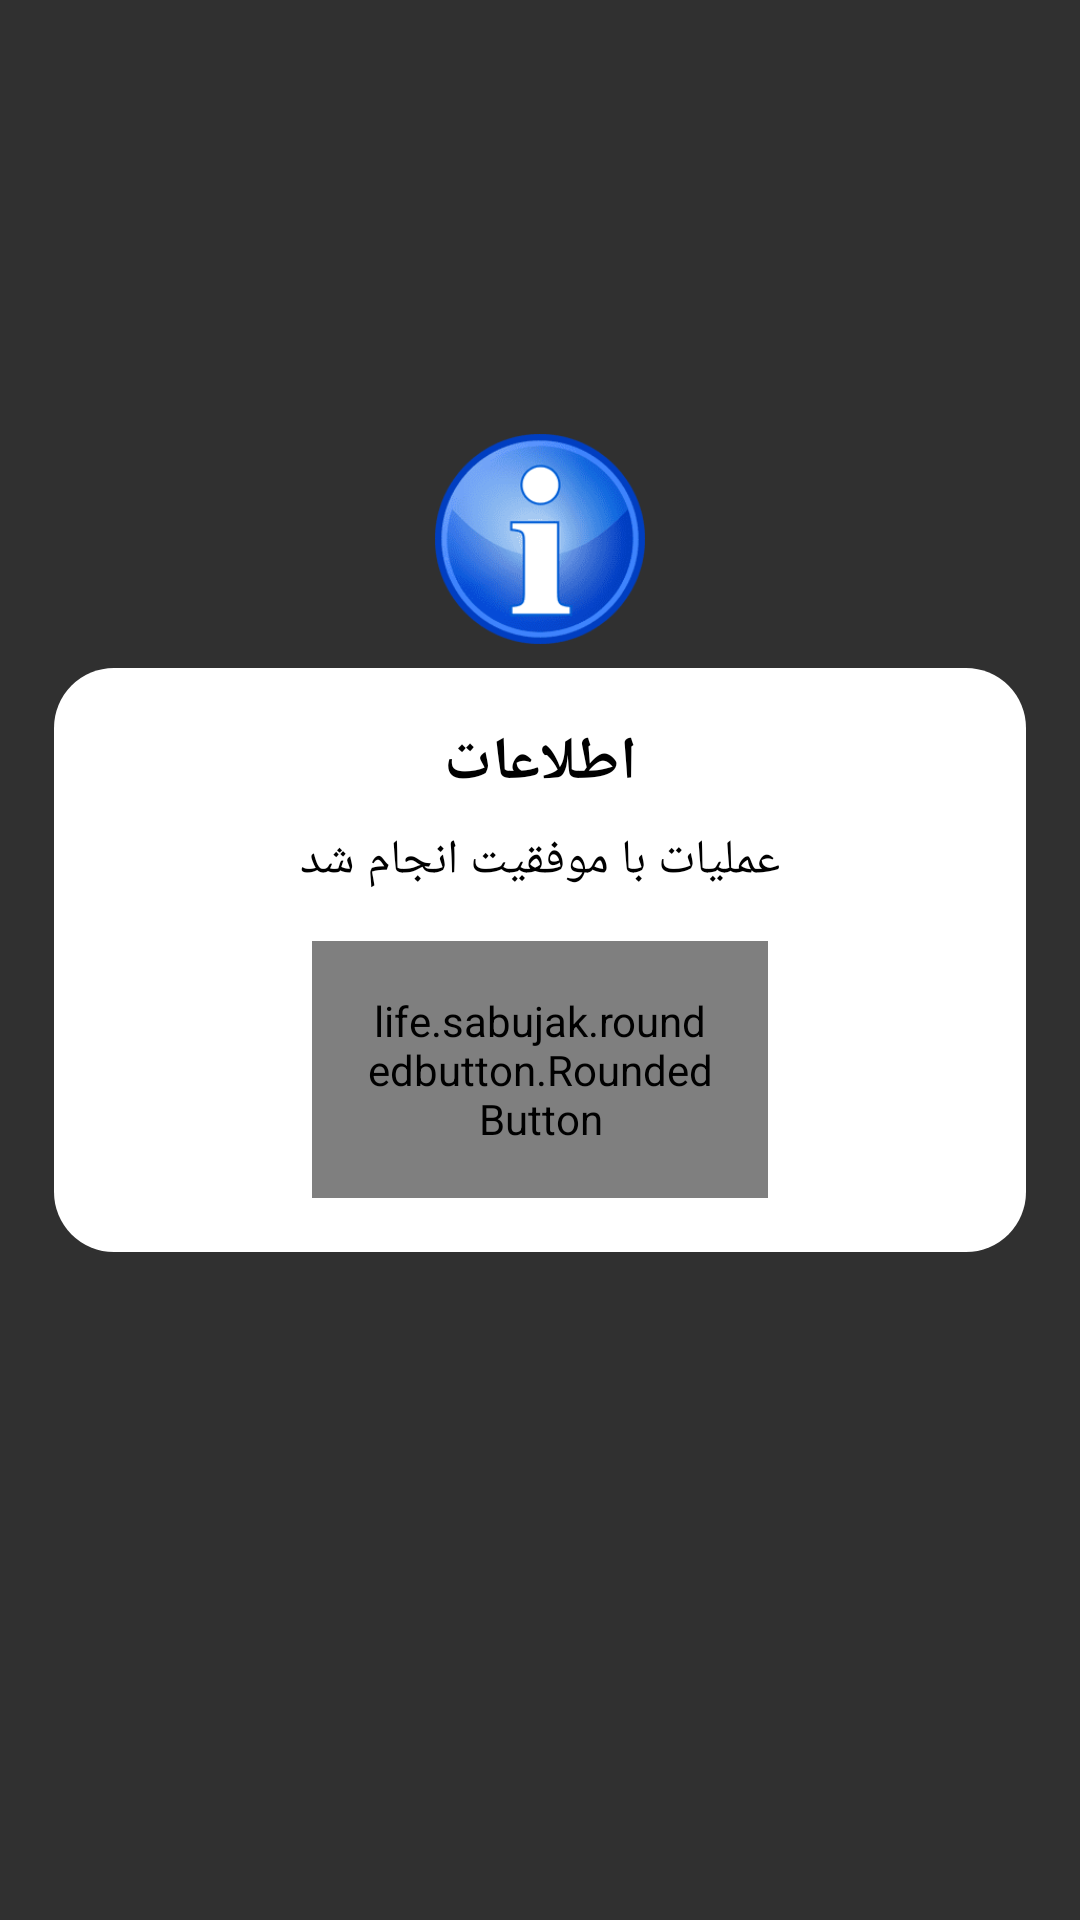

Locate icon controls on the screen. Image size 1080px x 1920px, boxes as [x1,y1,x2,y2].
inf: [435,434,645,644]
